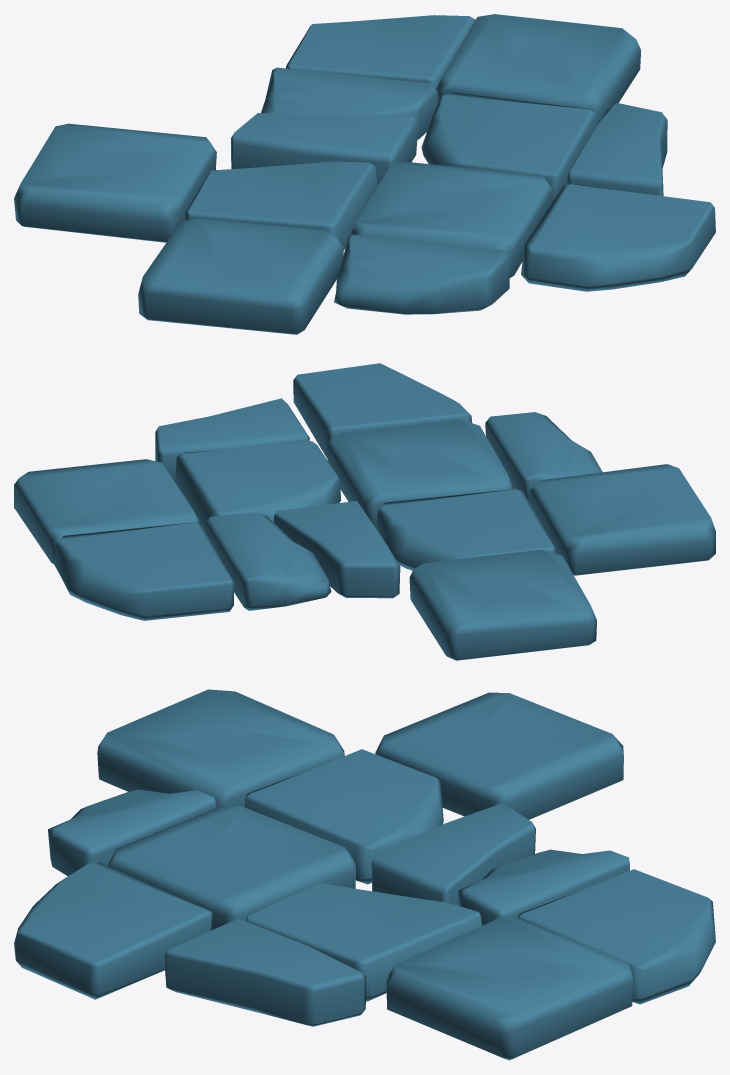
Rendered from Pavement_Grp_02_Lod0.fbx.
3 views of the same model, one above another, from view 1: azimuth 30°, elevation 25°; view 2: azimuth 150°, elevation 25°; view 3: azimuth 270°, elevation 25° (orthographic). The views are drawn at different scales.
Visible parts, largest first — view 1: Pavement_Grp_02_Lod0; view 2: Pavement_Grp_02_Lod0; view 3: Pavement_Grp_02_Lod0.
Part boxes in pixels (left/top/right/bottom): Pavement_Grp_02_Lod0: left=14, top=14, right=715, bottom=334; Pavement_Grp_02_Lod0: left=14, top=363, right=715, bottom=660; Pavement_Grp_02_Lod0: left=14, top=689, right=715, bottom=1060.
Bounding box in the file's own units: 219 × 14.17 × 195.
